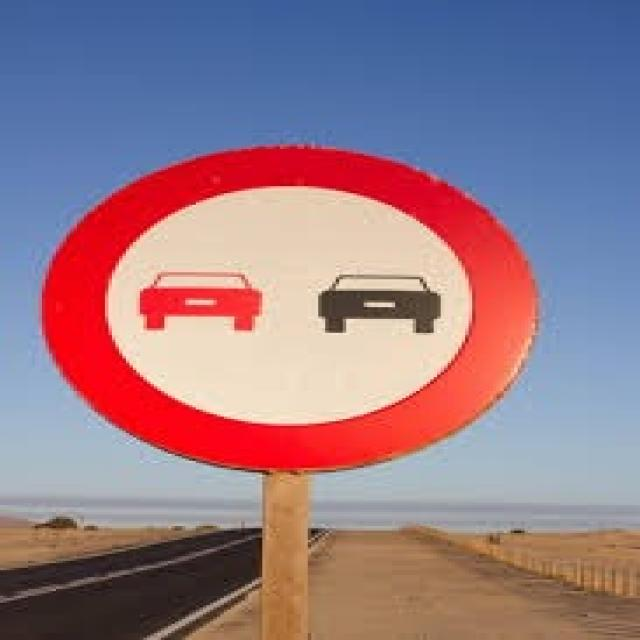no_passing: (31, 142, 550, 478)
